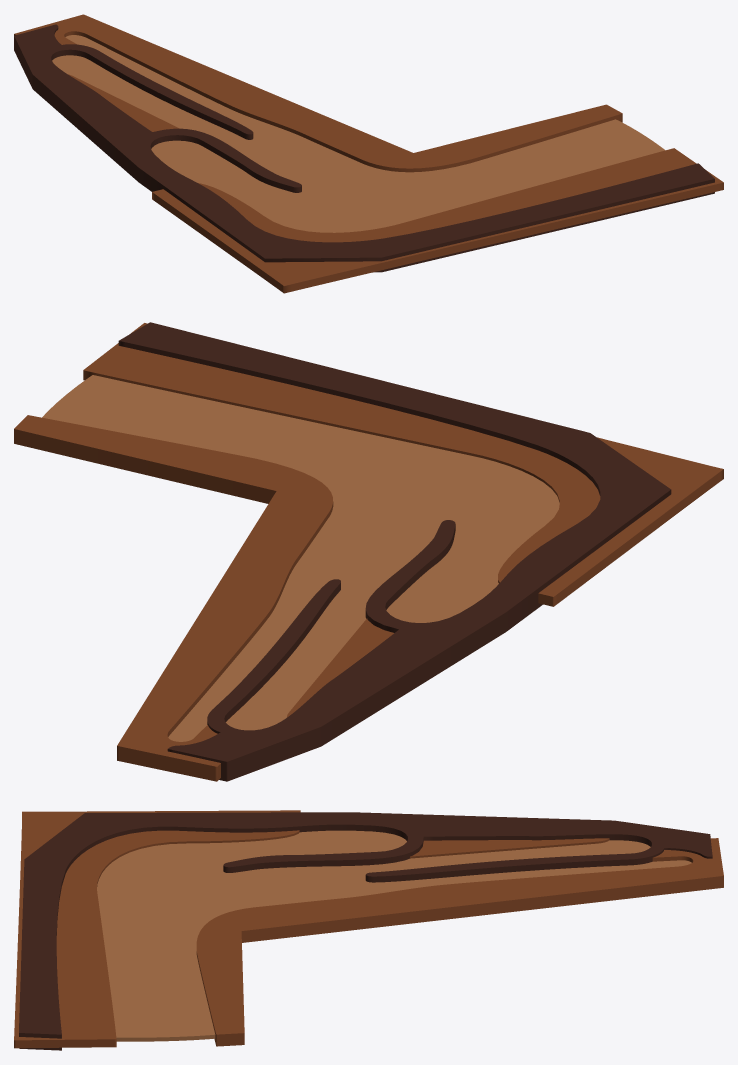
The model's file is emoji_u1faf7_1f3fe.glb.
The picture shows the model from 3 angles, top to bottom: view 1: azimuth 30°, elevation 25°; view 2: azimuth 150°, elevation 25°; view 3: azimuth 270°, elevation 25°; orthographic projection. The views are drawn at different scales.
Visible parts, largest first — view 1: emoji_u1faf7_1f3fe; view 2: emoji_u1faf7_1f3fe; view 3: emoji_u1faf7_1f3fe.
Boxes of the visible parts, x1=… form: emoji_u1faf7_1f3fe: x1=14, y1=14, x2=723, y2=293; emoji_u1faf7_1f3fe: x1=14, y1=322, x2=723, y2=781; emoji_u1faf7_1f3fe: x1=14, y1=810, x2=723, y2=1050.
Bounding box in the file's own units: 0.0248 × 0.0008 × 0.0324.
